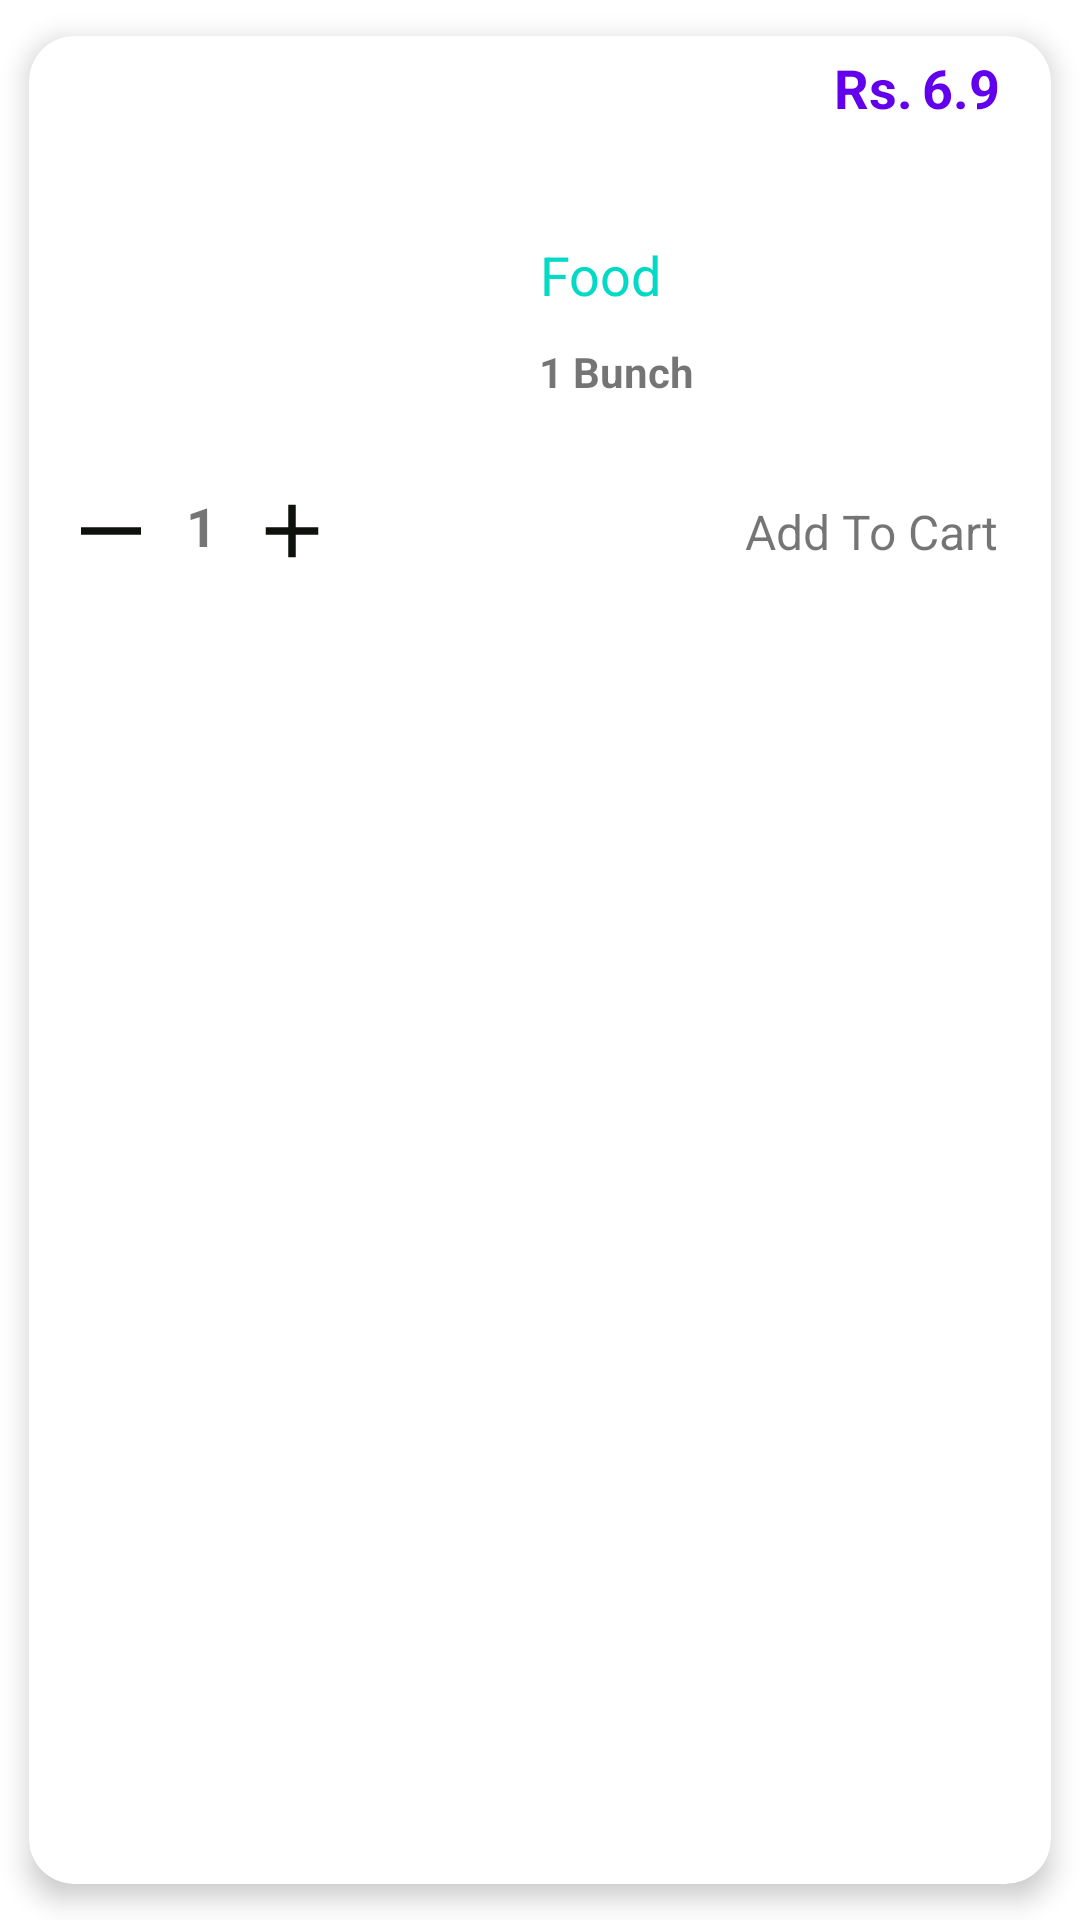

Where icons sit on this 1080w x 1920h app screen, as (x1, y1, x2, y2):
add: (265, 504, 319, 558)
